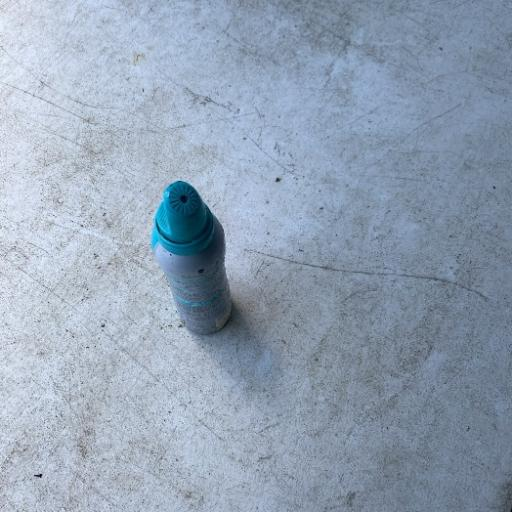Metal: (148, 179, 234, 337)
